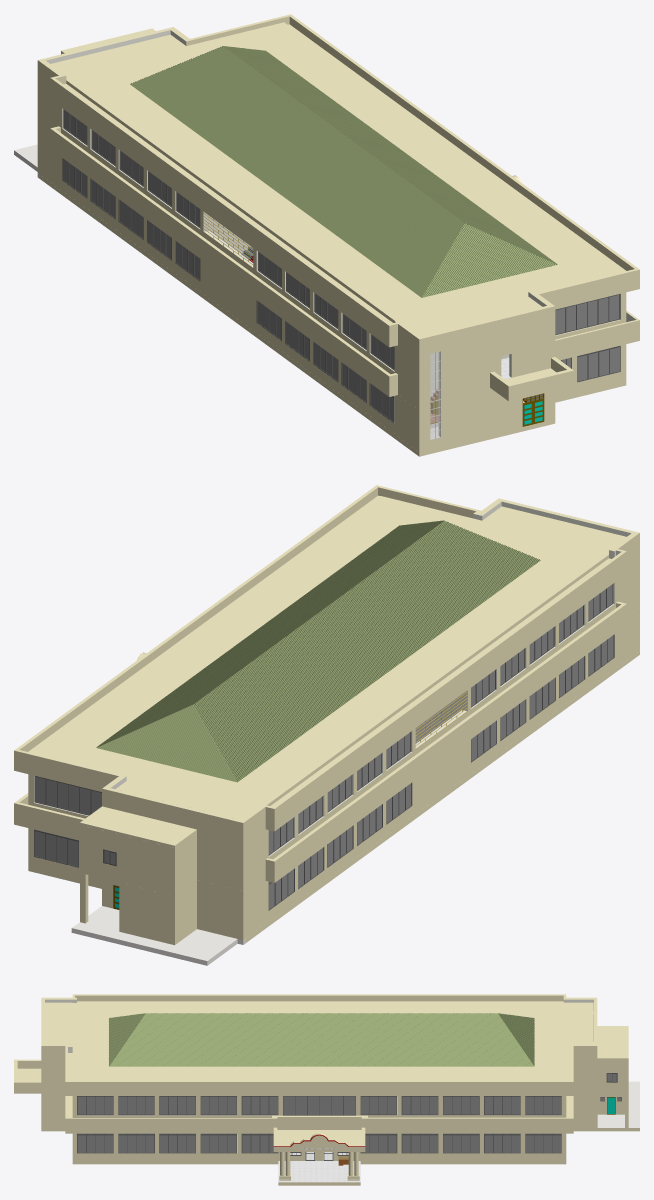
Rendered from adminnew.glb.
3 views of the same model, one above another, from view 1: azimuth 30°, elevation 25°; view 2: azimuth 150°, elevation 25°; view 3: azimuth 270°, elevation 25° (orthographic). The views are drawn at different scales.
Visible parts, largest first — view 1: 3DGeom-320, 3DGeom-1, 3DGeom-5, 3DGeom-2, 3DGeom-9, 3DGeom-4, 3DGeom-6, 3DGeom-318, 3DGeom-425, 3DGeom-319, 3DGeom-48, 3DGeom-8; view 2: 3DGeom-320, 3DGeom-1, 3DGeom-5, 3DGeom-2, 3DGeom-9, 3DGeom-4, 3DGeom-8, 3DGeom-7, 3DGeom-3, 3DGeom-425, 3DGeom-318, 3DGeom-319 (+1 smaller); view 3: 3DGeom-320, 3DGeom-1, 3DGeom-2, 3DGeom-9, 3DGeom-48 (×20), 3DGeom-4, 3DGeom-11, 3DGeom-440, 3DGeom-3, 3DGeom-8, 3DGeom-7, 3DGeom-6 (+1 smaller).
Boxes of the visible parts, bbox=[...] form: 3DGeom-320: bbox=[37, 14, 639, 404]; 3DGeom-1: bbox=[51, 22, 624, 336]; 3DGeom-5: bbox=[130, 46, 464, 297]; 3DGeom-2: bbox=[144, 46, 541, 285]; 3DGeom-9: bbox=[37, 126, 626, 456]; 3DGeom-4: bbox=[223, 46, 557, 264]; 3DGeom-6: bbox=[422, 223, 557, 297]; 3DGeom-318: bbox=[46, 30, 620, 380]; 3DGeom-425: bbox=[555, 295, 619, 334]; 3DGeom-319: bbox=[62, 108, 636, 398]; 3DGeom-48: bbox=[578, 347, 619, 381]; 3DGeom-8: bbox=[14, 144, 542, 439]; 3DGeom-320: bbox=[14, 485, 639, 895]; 3DGeom-1: bbox=[30, 496, 626, 819]; 3DGeom-5: bbox=[193, 520, 540, 782]; 3DGeom-2: bbox=[114, 521, 525, 770]; 3DGeom-9: bbox=[28, 601, 639, 945]; 3DGeom-4: bbox=[96, 520, 443, 747]; 3DGeom-8: bbox=[71, 677, 555, 965]; 3DGeom-7: bbox=[97, 705, 236, 782]; 3DGeom-3: bbox=[80, 806, 196, 847]; 3DGeom-425: bbox=[35, 776, 101, 814]; 3DGeom-318: bbox=[34, 501, 630, 815]; 3DGeom-319: bbox=[268, 514, 621, 856]; 3DGeom-320: bbox=[14, 994, 628, 1133]; 3DGeom-1: bbox=[45, 1002, 593, 1080]; 3DGeom-2: bbox=[115, 1013, 528, 1058]; 3DGeom-9: bbox=[41, 1093, 639, 1185]; 3DGeom-48 (×20): bbox=[77, 1097, 561, 1152]; 3DGeom-4: bbox=[109, 1013, 533, 1066]; 3DGeom-11: bbox=[278, 1152, 360, 1182]; 3DGeom-440: bbox=[283, 1096, 355, 1114]; 3DGeom-3: bbox=[597, 1026, 628, 1059]; 3DGeom-8: bbox=[237, 1081, 639, 1154]; 3DGeom-7: bbox=[498, 1013, 534, 1066]; 3DGeom-6: bbox=[108, 1013, 145, 1066].
Bounding box in the file's own units: 27.47 × 13.46 × 68.45.
Materials: 33 (9 with a texture image).
